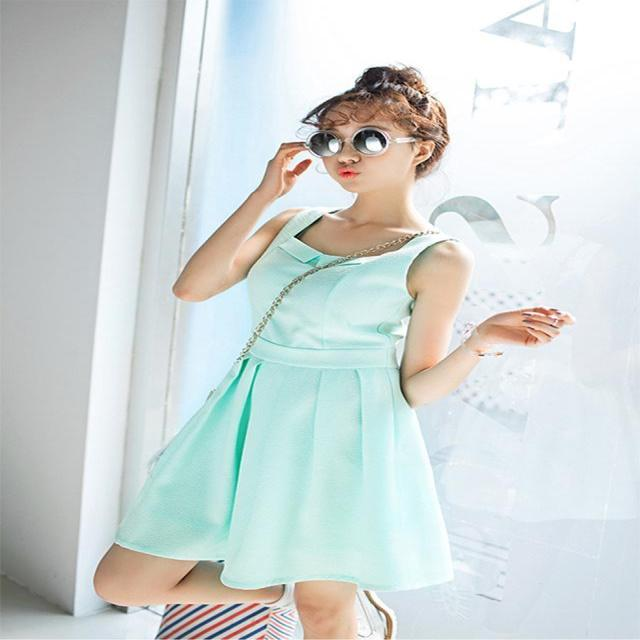vest dress: (119, 211, 458, 586)
